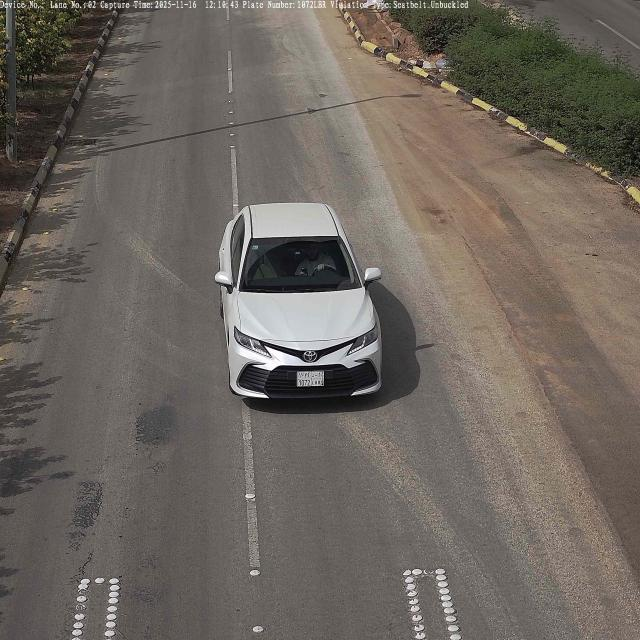person_without_seatbelt: (296, 238, 337, 278)
